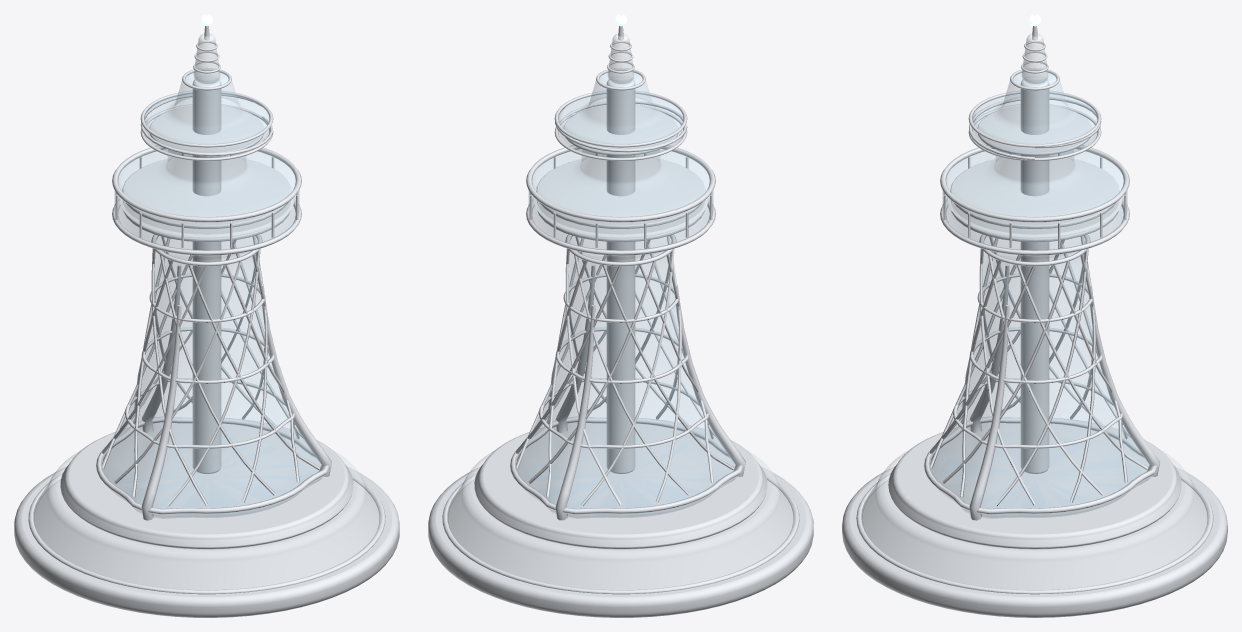
3 renders of one model, left to right at view 1: azimuth 30°, elevation 25°; view 2: azimuth 150°, elevation 25°; view 3: azimuth 270°, elevation 25°, orthographic.
Visible parts, largest first — view 1: TokyoSkytree_ChessPiece; view 2: TokyoSkytree_ChessPiece; view 3: TokyoSkytree_ChessPiece.
Part boxes in pixels (<box>): TokyoSkytree_ChessPiece: <box>14,14,399,617</box>; TokyoSkytree_ChessPiece: <box>428,14,813,617</box>; TokyoSkytree_ChessPiece: <box>842,14,1227,617</box>.
Bounding box in the file's own units: 2 × 3 × 2.
